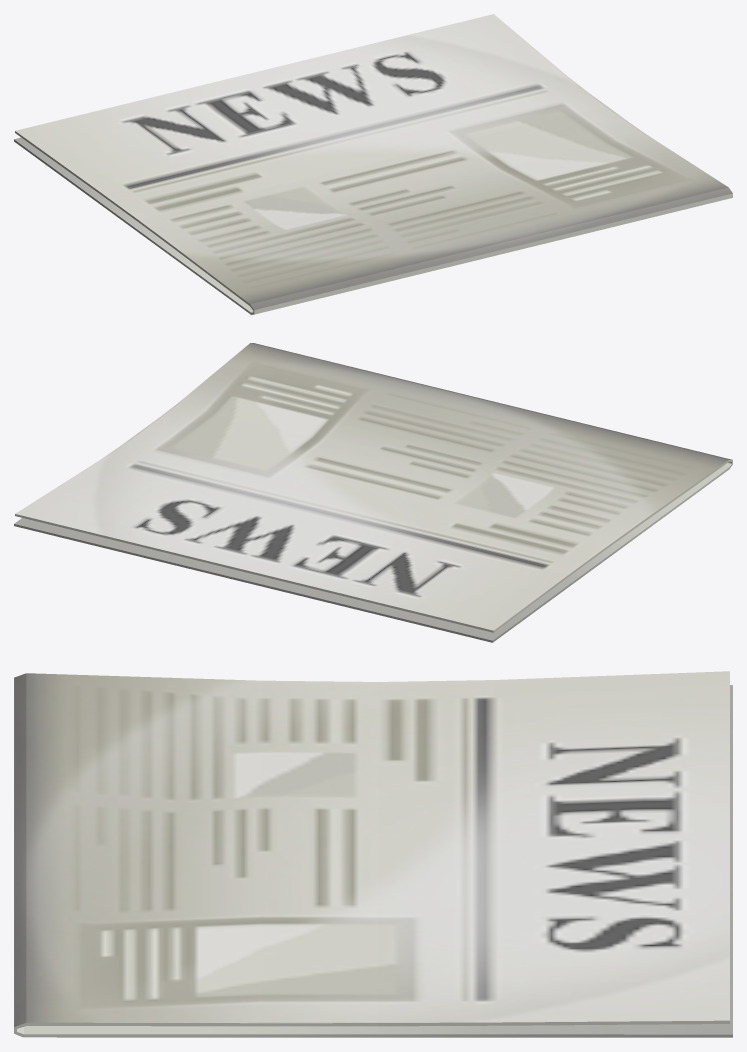
File: GAZETE_YATAY.fbx
3 views of the same model, one above another, from view 1: azimuth 30°, elevation 25°; view 2: azimuth 150°, elevation 25°; view 3: azimuth 270°, elevation 25° (orthographic). The views are drawn at different scales.
Parts seen in each view (by area): view 1: GAZETE_DUZ.001; view 2: GAZETE_DUZ.001; view 3: GAZETE_DUZ.001.
Boxes of the visible parts, left/top/right/bottom form: GAZETE_DUZ.001: left=14, top=14, right=732, bottom=314; GAZETE_DUZ.001: left=14, top=343, right=732, bottom=642; GAZETE_DUZ.001: left=14, top=671, right=732, bottom=1037.
Size of the model in its own units: 33.24 by 0.7565 by 28.9.
